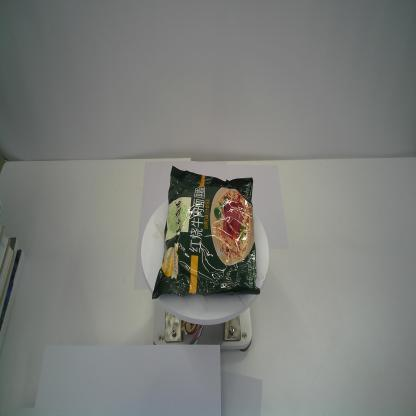Instant Noodles: (150, 163, 262, 302)
